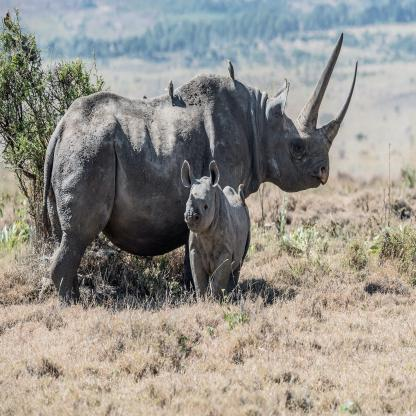Diceros bicornis: (43, 32, 358, 300), (181, 157, 251, 304)
